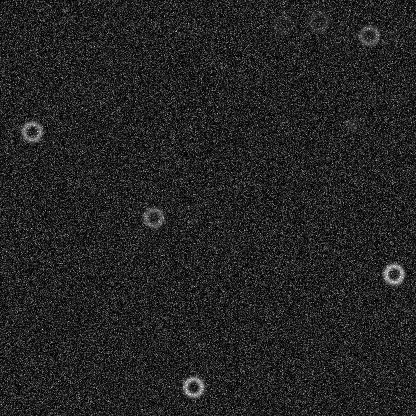Ring: (181, 374, 205, 398), (270, 12, 294, 36), (306, 9, 330, 33), (381, 261, 405, 285), (19, 119, 43, 143), (356, 23, 380, 47), (141, 205, 165, 229)
Spot: (344, 116, 360, 132)
